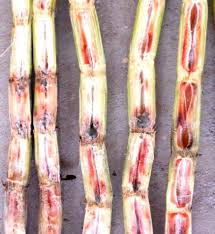Red-Rot: (162, 1, 208, 234), (70, 0, 113, 231), (31, 0, 63, 231), (127, 0, 156, 232), (9, 0, 29, 231)
